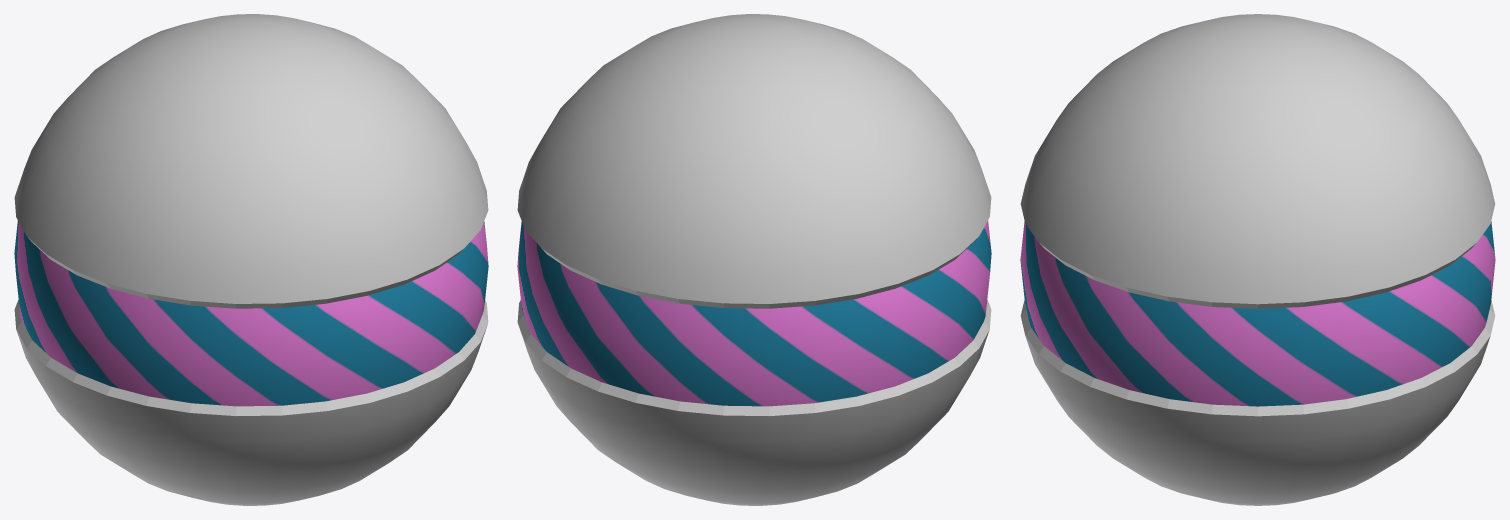
Rendered from PINK_Sphere_move.FBX.
3 renders of one model, left to right at view 1: azimuth 30°, elevation 25°; view 2: azimuth 150°, elevation 25°; view 3: azimuth 270°, elevation 25°, orthographic.
Visible parts, largest first — view 1: PINK_Sphere_move, RotateMesh; view 2: PINK_Sphere_move, RotateMesh; view 3: PINK_Sphere_move, RotateMesh.
Part boxes in pixels (left/top/right/bottom): PINK_Sphere_move: left=14, top=14, right=488, bottom=505; RotateMesh: left=14, top=220, right=488, bottom=406; PINK_Sphere_move: left=517, top=14, right=991, bottom=505; RotateMesh: left=517, top=220, right=991, bottom=406; PINK_Sphere_move: left=1020, top=14, right=1495, bottom=505; RotateMesh: left=1020, top=221, right=1495, bottom=406.
Bounding box in the file's own units: 62.26 × 64.54 × 62.26.
